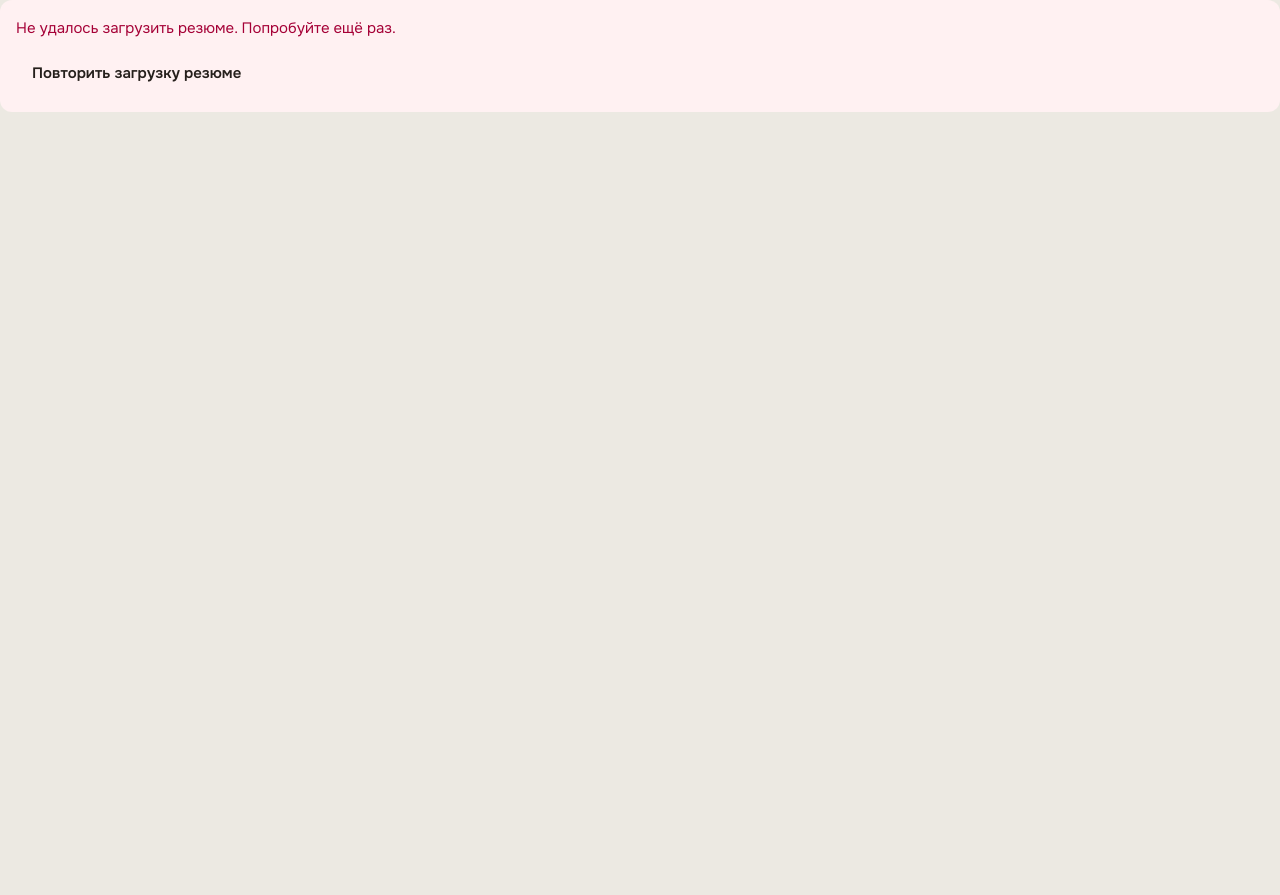
Test: failed loading has a retry and never invents a missing resume
Expected: the message shows "Не удалось загрузить", left=16, top=18, right=396, bottom=38
Expected: the text "Exact submitted CV" is not shown
Click the button "Повторить загрузку резюме". click: point(137, 74)
box: left=16, top=52, right=257, bottom=96
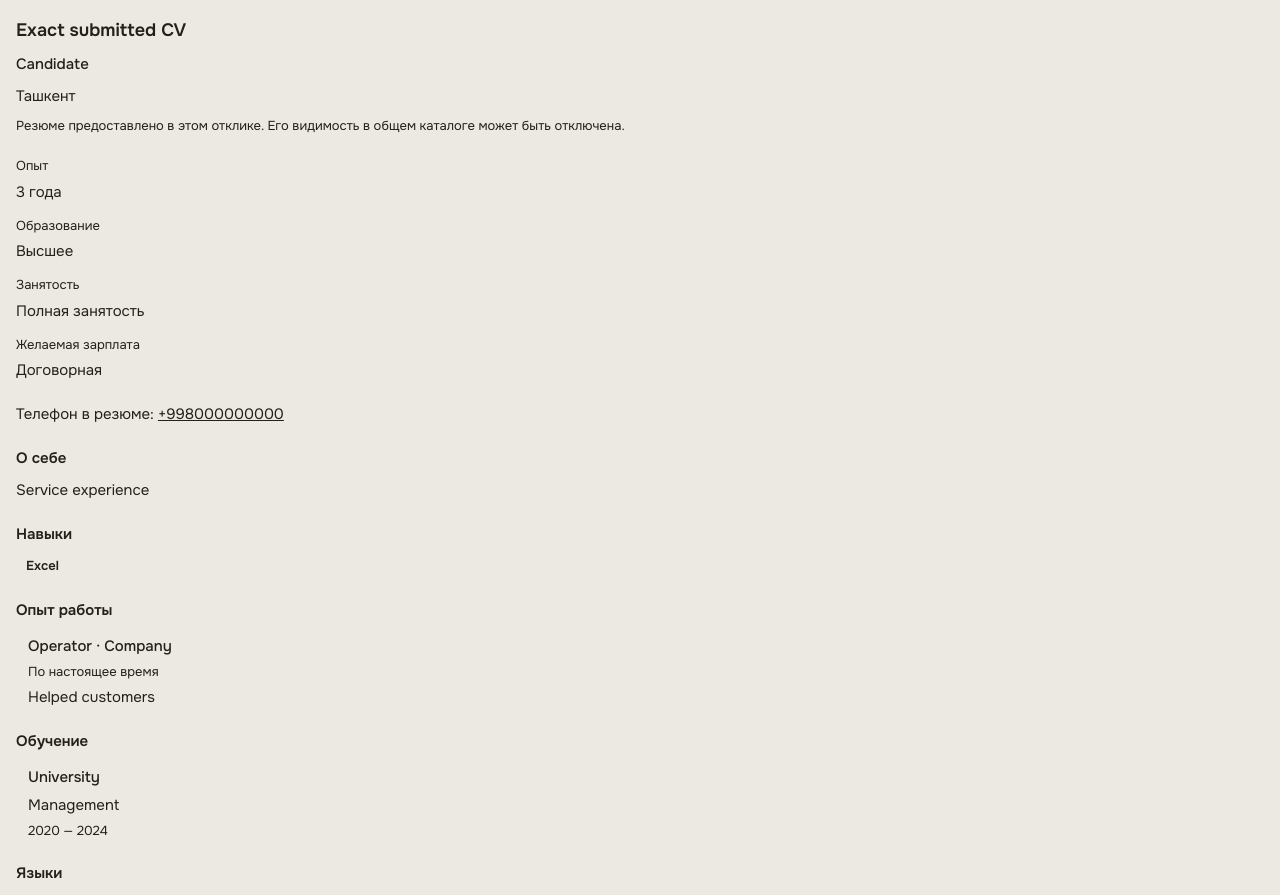
Now the heading "Exact submitted CV" is shown, box left=16, top=19, right=186, bottom=41
